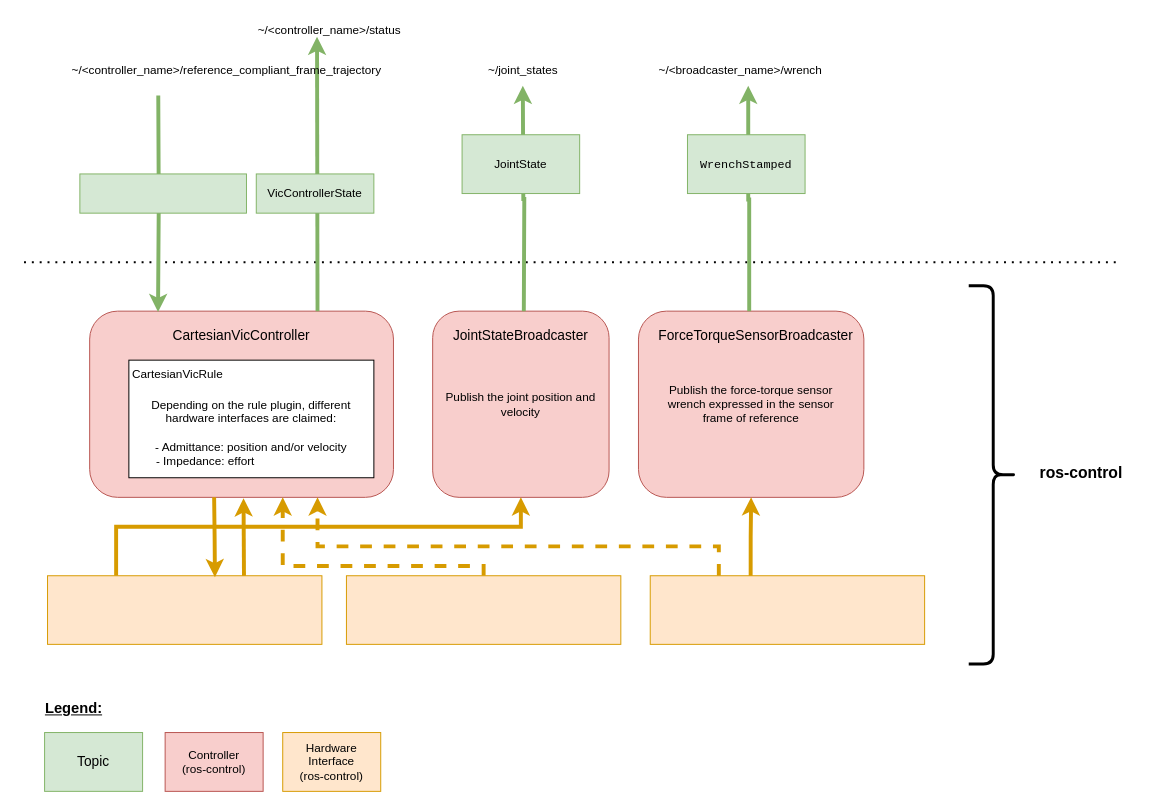
The diagram is 1152 pixels wide and 809 high, and some of its shapes have lost their labels. Each missing label, with the centre of its shape:
CompliantFrameTrajectory: point (162, 193)
External Torques Hardware interface (optional): point (483, 609)
F/T sensor Hardware interface (optional): point (787, 609)
Joint states Hardware Interface: point (184, 609)
